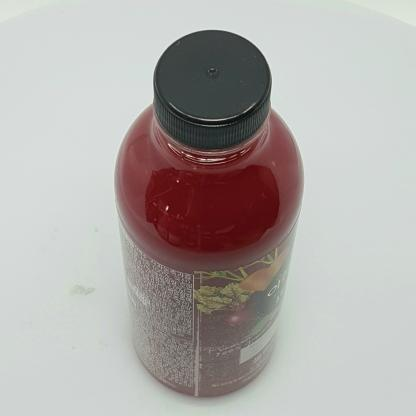--------------ABC--750ML: (114, 29, 304, 398)
